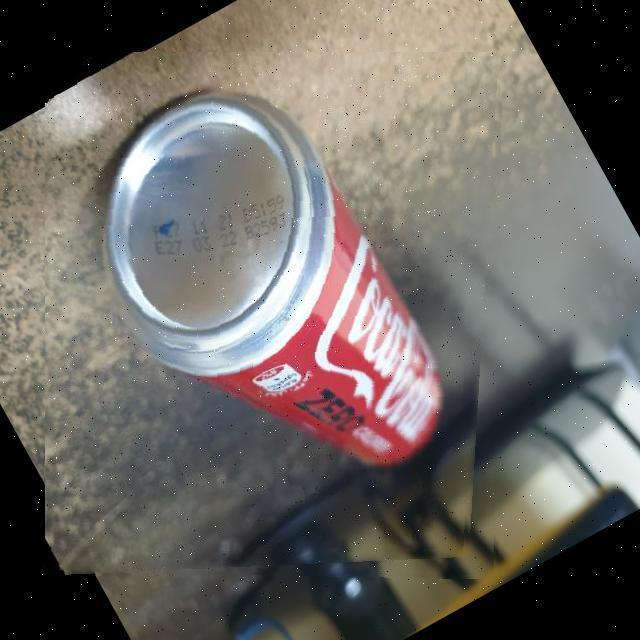recyclable: (45, 52, 500, 577)
